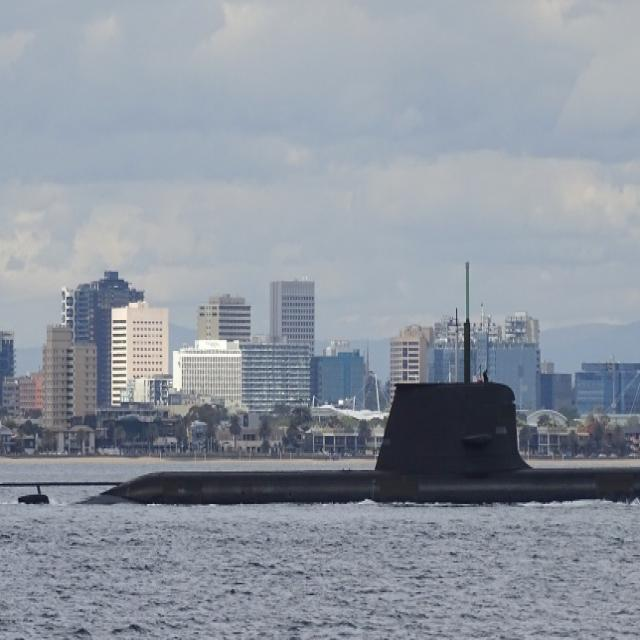submarine: (1, 259, 640, 505)
